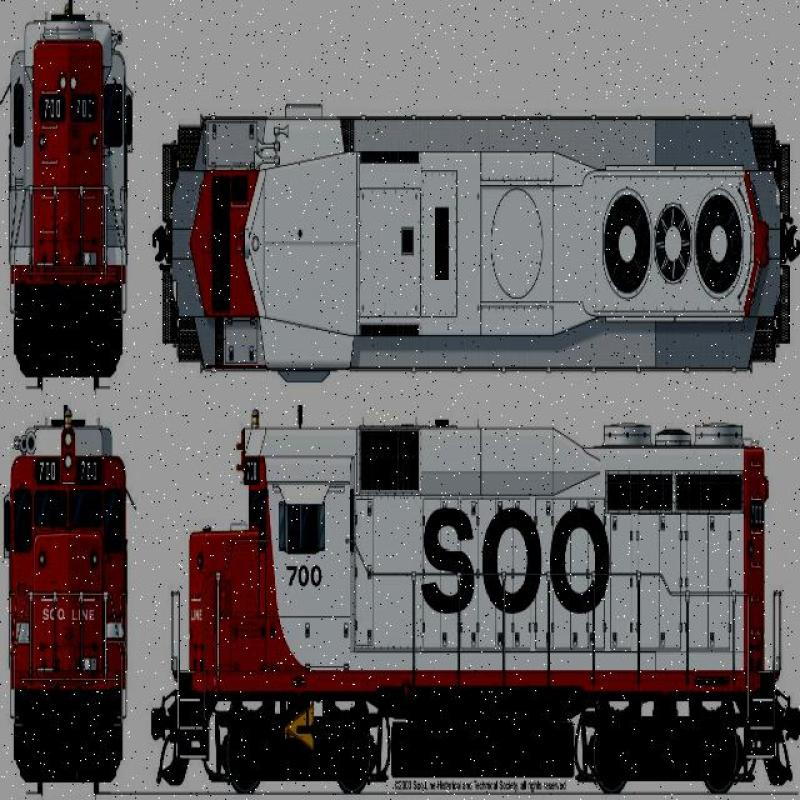train: (166, 399, 791, 789), (160, 99, 794, 369), (7, 11, 125, 381), (7, 424, 125, 778)
